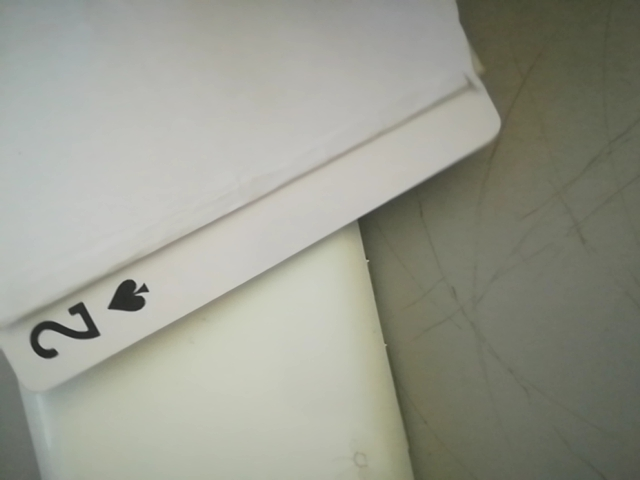ht 2: (10, 270, 167, 370)
